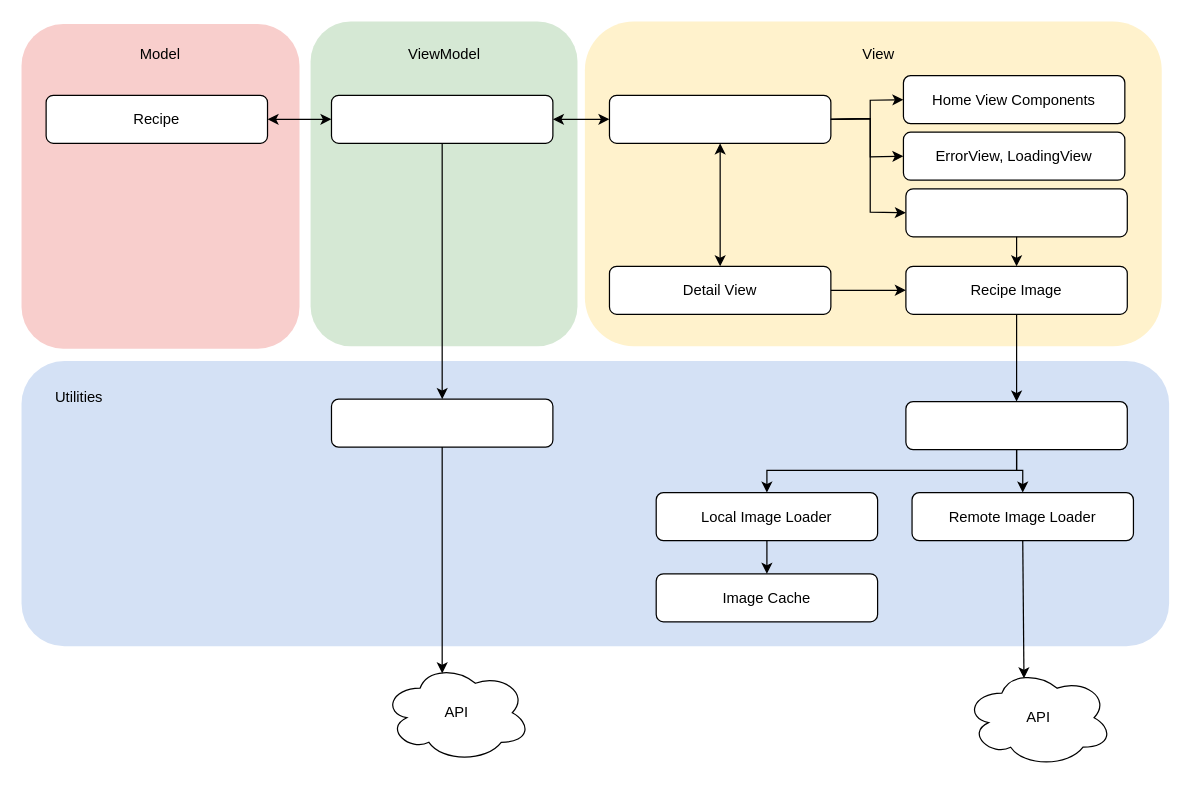
Some shapes in this 1189 by 788 pixel diagram are drawn without their labels. The box of each missing label's shape, as (x1, y1, x2, y2) in pixels:
Home View: (608, 94, 831, 143)
Image Loader: (905, 400, 1127, 450)
Receipe Loader: (330, 398, 553, 447)
Recipe Card: (905, 188, 1127, 237)
Recipe ViewModel: (330, 94, 553, 143)
